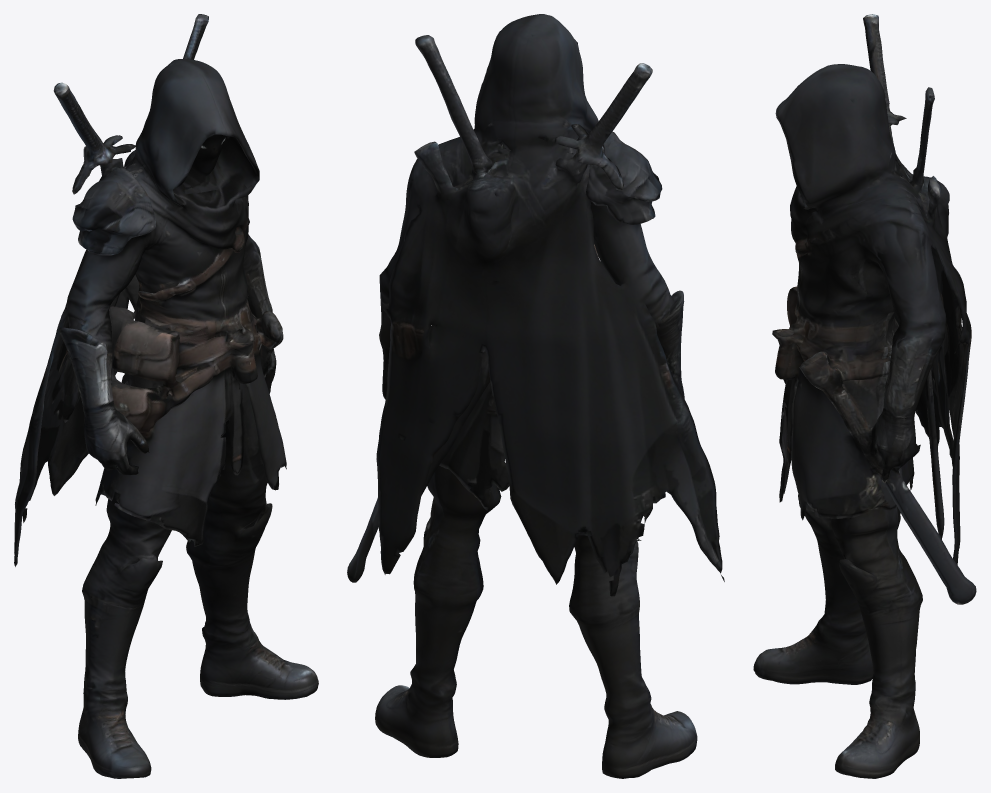
File: hat-transformed.glb
3 views of the same model, side by side, from view 1: azimuth 30°, elevation 25°; view 2: azimuth 150°, elevation 25°; view 3: azimuth 270°, elevation 25° (orthographic). The views are drawn at different scales.
Size of the model in its own units: 0.9575 by 1.99 by 0.6118.
Materials: 1 (1 with a texture image).
